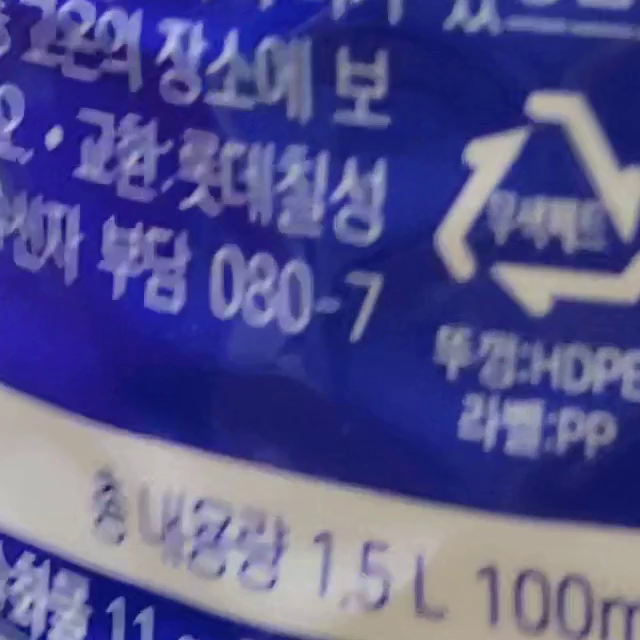ColorlessPet: (436, 91, 639, 315)
